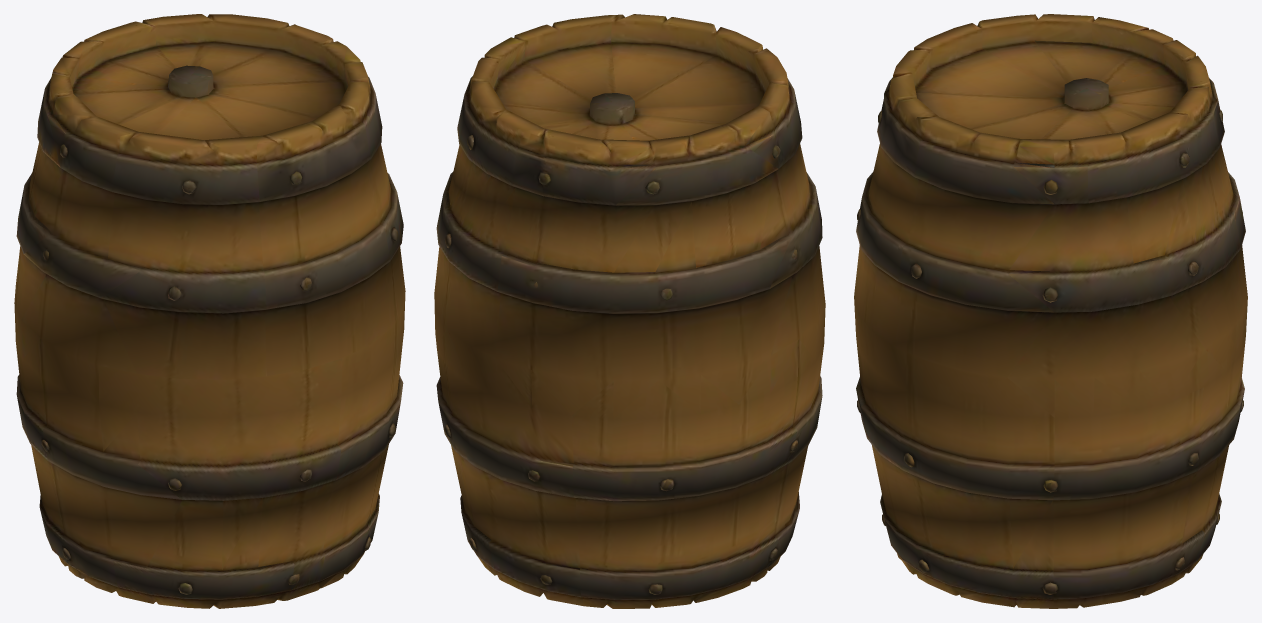
File: settlement-barrel.glb
The picture shows the model from 3 angles, left to right: view 1: azimuth 30°, elevation 25°; view 2: azimuth 150°, elevation 25°; view 3: azimuth 270°, elevation 25°; orthographic projection.
Visible parts, largest first — view 1: tripo_node_4f7f095c-7d2a-4d70-82af-551bfafbfb64; view 2: tripo_node_4f7f095c-7d2a-4d70-82af-551bfafbfb64; view 3: tripo_node_4f7f095c-7d2a-4d70-82af-551bfafbfb64.
Boxes of the visible parts, x1,y1,x2,y2 form: tripo_node_4f7f095c-7d2a-4d70-82af-551bfafbfb64: [14, 14, 405, 608]; tripo_node_4f7f095c-7d2a-4d70-82af-551bfafbfb64: [434, 14, 825, 608]; tripo_node_4f7f095c-7d2a-4d70-82af-551bfafbfb64: [854, 14, 1247, 608].
Bounding box in the file's own units: 0.7598 × 0.998 × 0.7676.
1 material, 1 textured.
